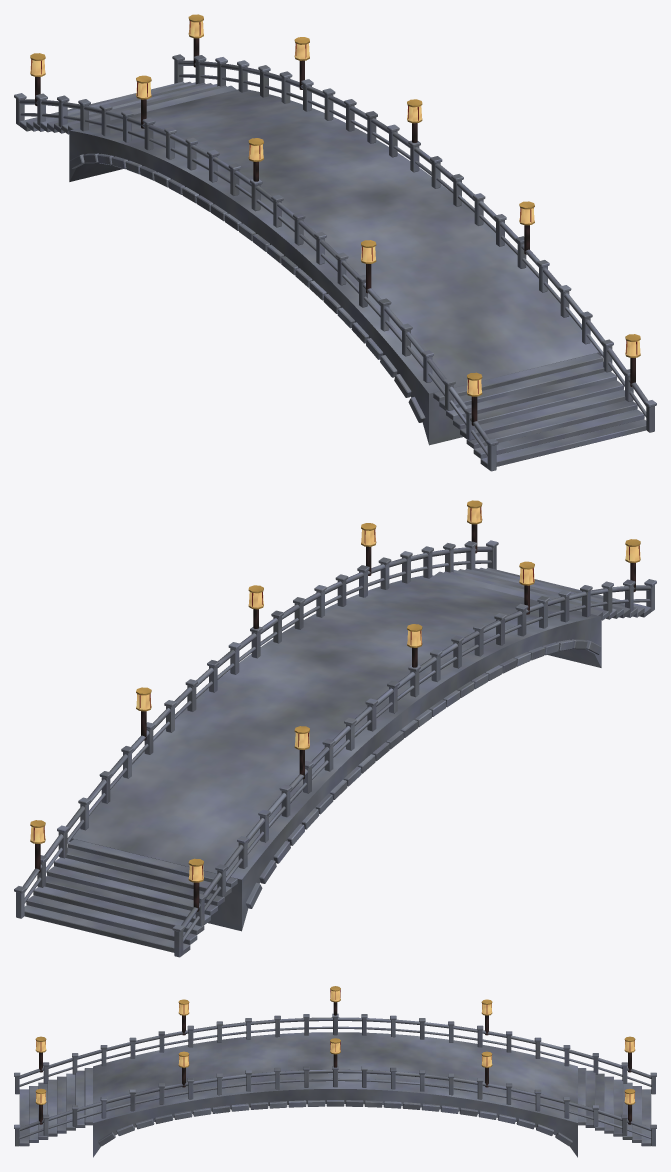
File: model-bridge.glb
3 views of the same model, one above another, from view 1: azimuth 30°, elevation 25°; view 2: azimuth 150°, elevation 25°; view 3: azimuth 270°, elevation 25° (orthographic). The views are drawn at different scales.
Parts seen in each view (by area): view 1: model-bridge; view 2: model-bridge; view 3: model-bridge.
Part boxes in pixels (box(x1,y1,x2,y2)): model-bridge: box(14, 14, 656, 471); model-bridge: box(14, 500, 656, 957); model-bridge: box(14, 986, 656, 1157).
Size of the model in its own units: 6.5 by 5.87 by 29.7.
5 materials, 5 textured.
